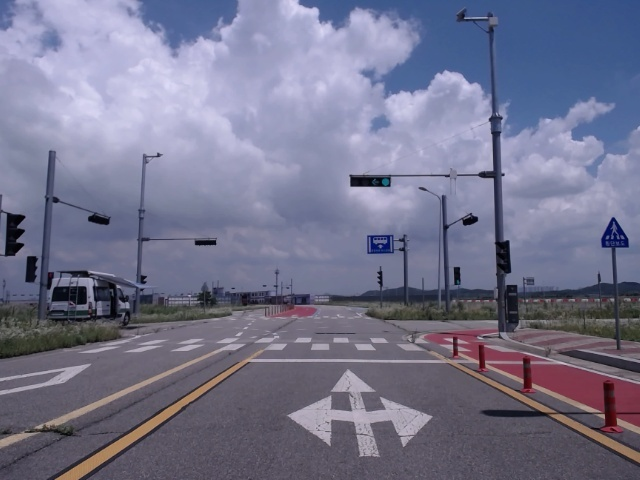all_green_4: (349, 174, 392, 187)
